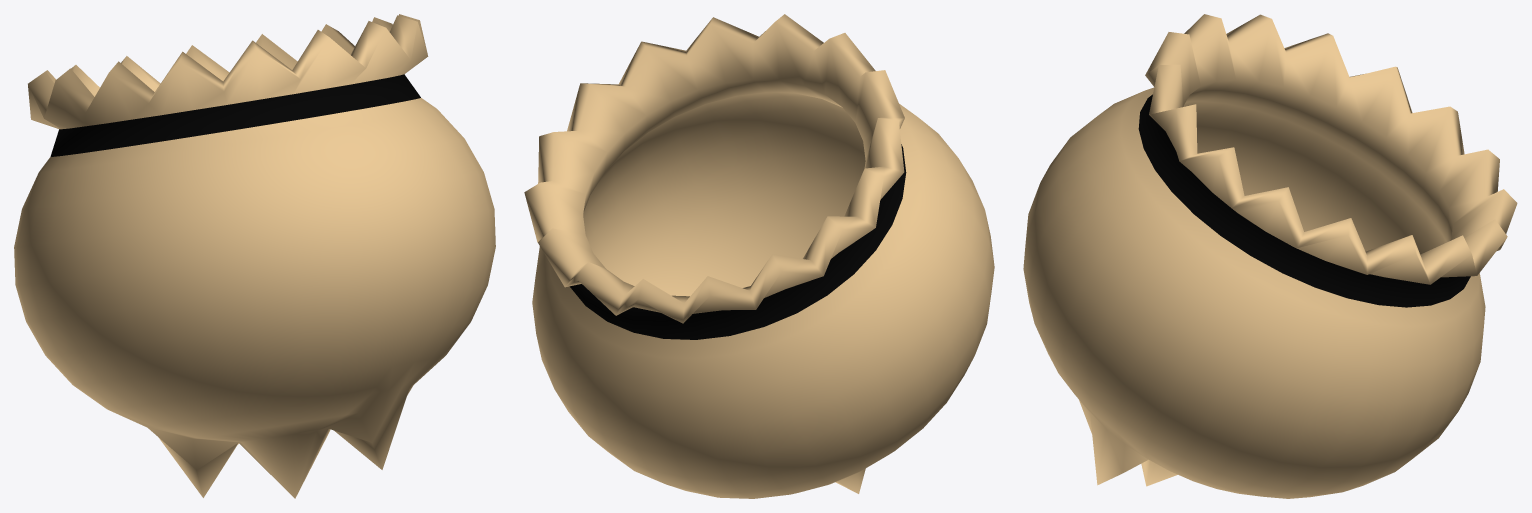
Rendered from GlovesR.fbx.
3 renders of one model, left to right at view 1: azimuth 30°, elevation 25°; view 2: azimuth 150°, elevation 25°; view 3: azimuth 270°, elevation 25°, orthographic. The views are drawn at different scales.
Parts seen in each view (by area): view 1: Sphere.003; view 2: Sphere.003; view 3: Sphere.003.
Boxes of the visible parts, <box> form: Sphere.003: <box>14,14,495,498</box>; Sphere.003: <box>524,14,994,498</box>; Sphere.003: <box>1023,14,1517,498</box>.
Size of the model in its own units: 27 by 28.11 by 28.01.
